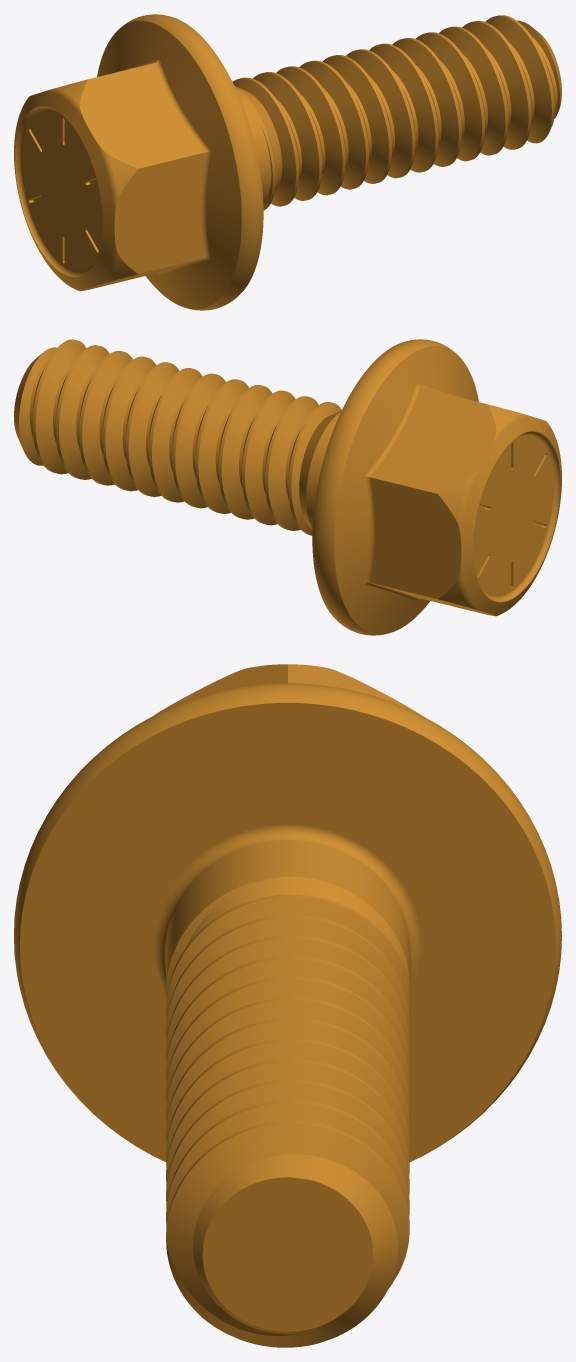
The model's file is sorting_bolt2.obj.
3 views of the same model, one above another, from view 1: azimuth 30°, elevation 25°; view 2: azimuth 150°, elevation 25°; view 3: azimuth 270°, elevation 25° (orthographic). The views are drawn at different scales.
Size of the model in its own units: 0.0262 by 0.0143 by 0.0143.
